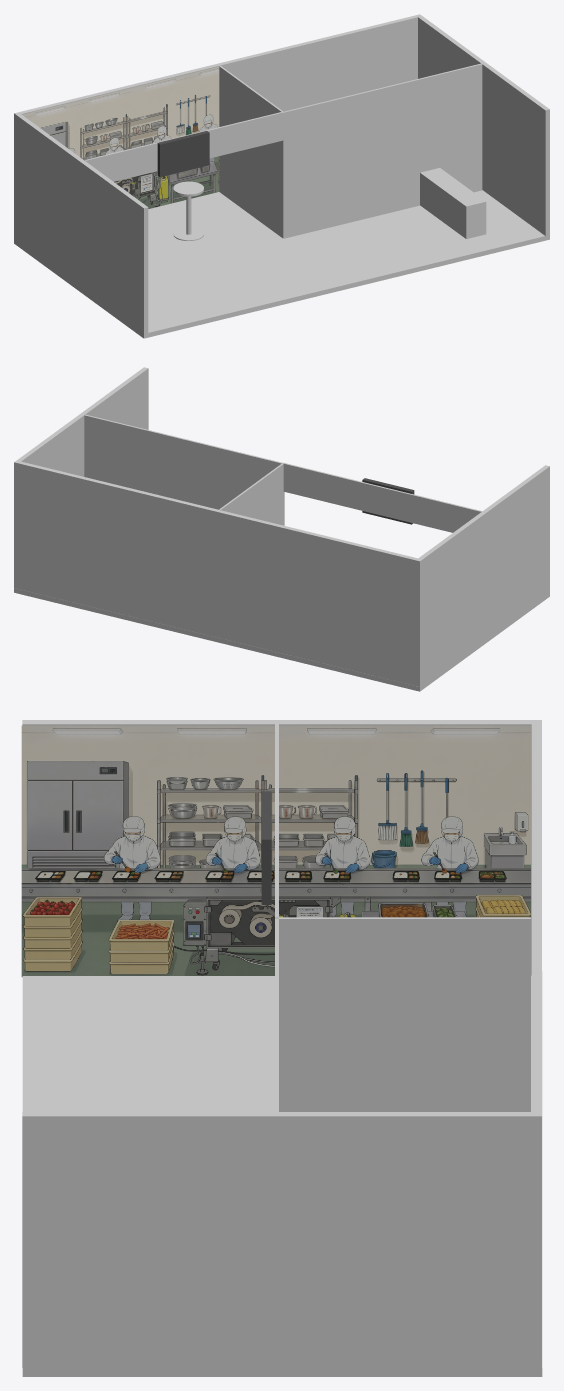
The model's file is FOOMA2026booth.glb.
3 views of the same model, one above another, from view 1: azimuth 30°, elevation 25°; view 2: azimuth 150°, elevation 25°; view 3: azimuth 270°, elevation 25° (orthographic). The views are drawn at different scales.
Parts seen in each view (by area): view 1: ゆかかべ, 壁デザイン, 台, テレビ, テーブル; view 2: ゆかかべ; view 3: ゆかかべ, 壁デザイン, テレビ.
Boxes of the visible parts, <box> form: ゆかかべ: <box>14,14,549,338</box>; 壁デザイン: <box>22,65,482,238</box>; 台: <box>420,168,486,238</box>; テレビ: <box>157,131,209,177</box>; テーブル: <box>173,181,203,240</box>; ゆかかべ: <box>14,367,549,691</box>; ゆかかべ: <box>22,720,542,1376</box>; 壁デザイン: <box>21,725,530,977</box>; テレビ: <box>261,791,271,904</box>.
Size of the model in its own units: 9.11 by 2.82 by 5.06.
Materials: 3 (1 with a texture image).
